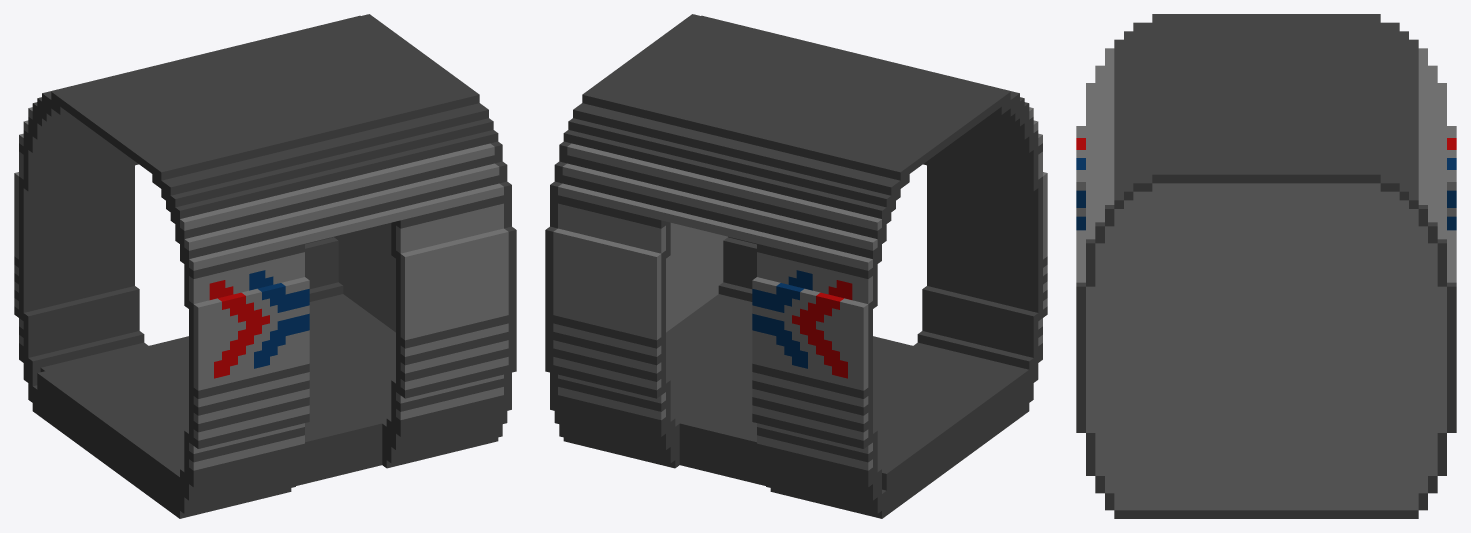
Rendered from amfleet-segment-door.obj.
3 renders of one model, left to right at view 1: azimuth 30°, elevation 25°; view 2: azimuth 150°, elevation 25°; view 3: azimuth 270°, elevation 25°, orthographic. The views are drawn at different scales.
Bounding box in the file's own units: 4 × 4 × 4.
1 material, 1 textured.
